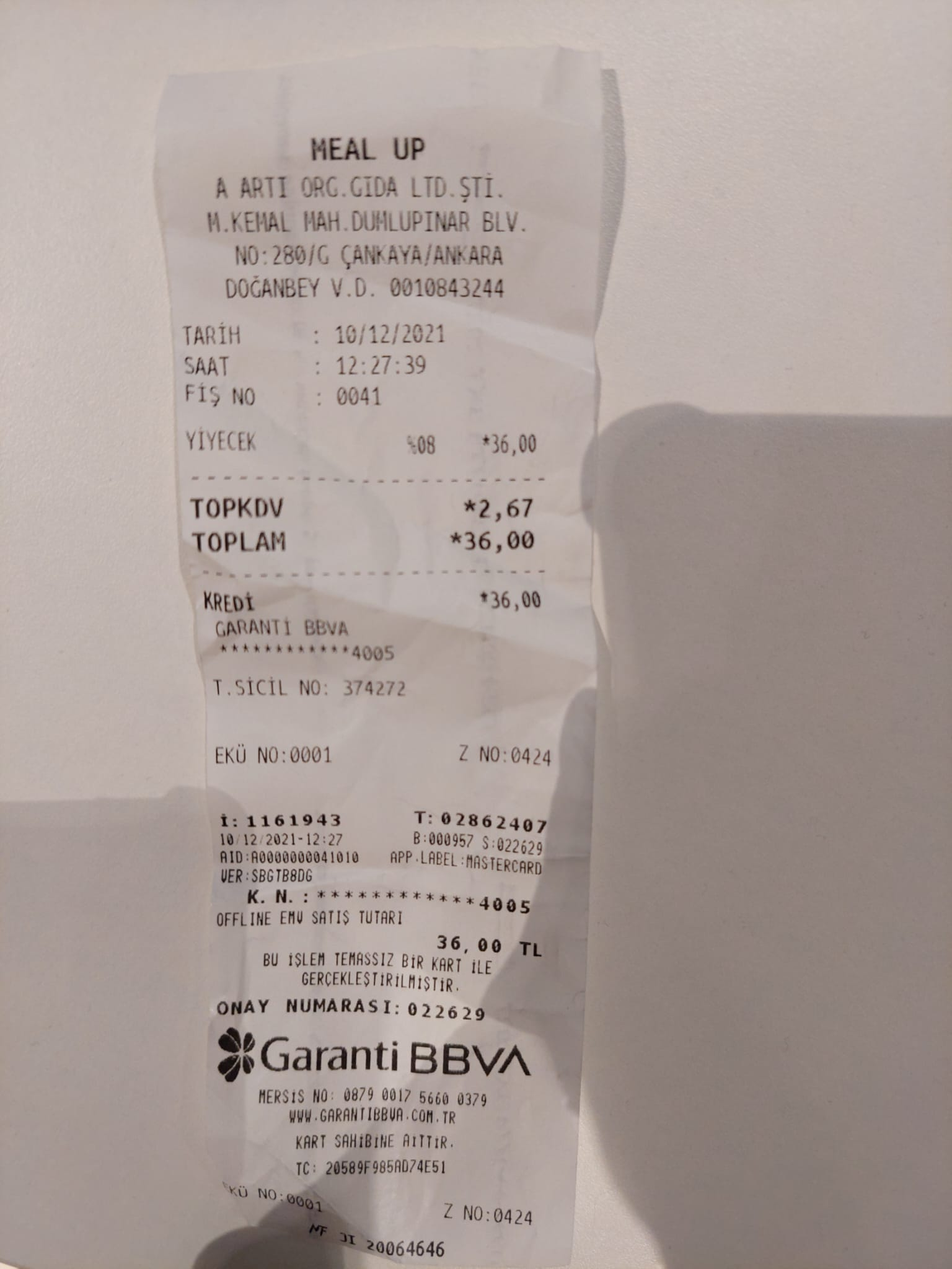date: (460, 523, 544, 558)
price: (329, 318, 449, 352)
workplace: (174, 126, 555, 276)
